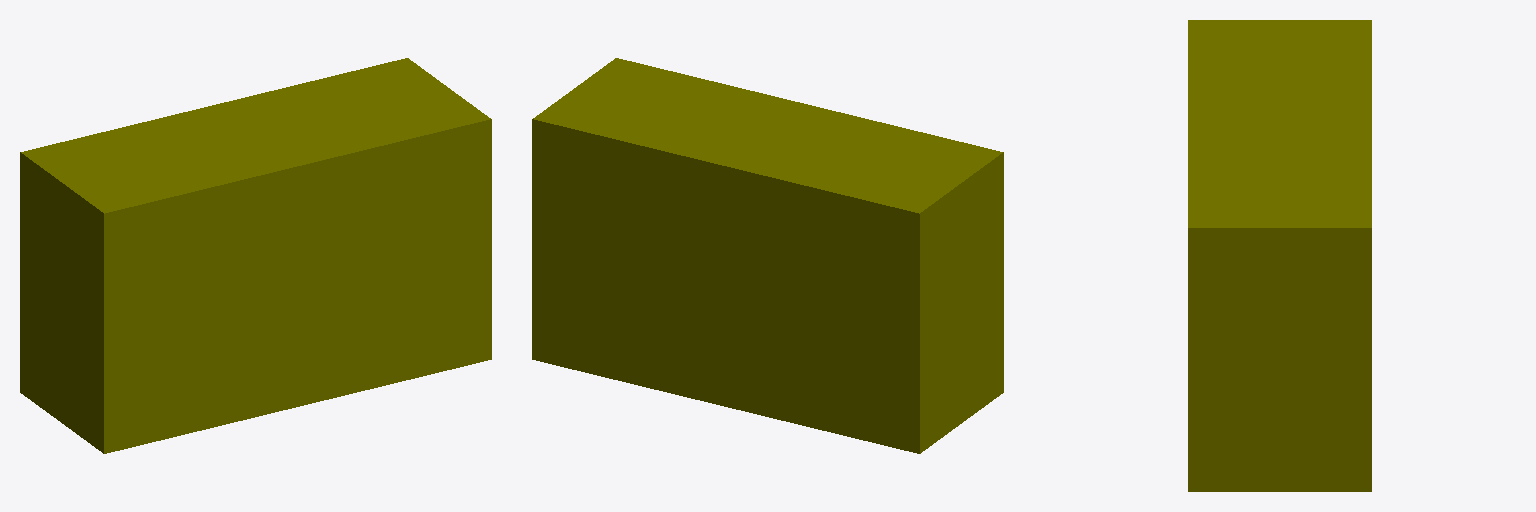
URDF robot description (box.urdf):
<?xml version="0.0" ?>
<robot name="box.urdf">
  <link name="baseLink">
    <contact>
      <lateral_friction value="0.5"/>
      <rolling_friction value="0.0"/>
      <contact_cfm value="0.0"/>
      <contact_erp value="1.0"/>
    </contact>
    <inertial>
      <origin rpy="0 0 0" xyz="0 0 0"/>
       <mass value=".01"/>
       <inertia ixx="1" ixy="0" ixz="0" iyy="1" iyz="0" izz="1"/>
    </inertial>
    <visual>
      <origin rpy="0 0 0" xyz="0 0 0"/>
      <geometry>
				<mesh filename="box.obj" scale="0.16 0.06 0.095"/>
      </geometry>
       <material name="white">
        <color rgba="0.5 0.5 0 1"/>
      </material>
    </visual>
    <collision>
      <origin rpy="0 0 0" xyz="0 0 0"/>
      <geometry>
	 	<box size="0.16 0.06 0.095"/>
      </geometry>
    </collision>
  </link>
</robot>

--- Render facts (derived) ---
3 views of the same robot in one strip: view 1: azimuth 30°, elevation 25°; view 2: azimuth 150°, elevation 25°; view 3: azimuth 270°, elevation 25° (orthographic).
Model box.urdf with 1 links and 0 joints (none), rooted at baseLink, posed every joint at zero.
Visible links, largest first — view 1: baseLink; view 2: baseLink; view 3: baseLink.
Link boxes in pixels (<box>): baseLink: <box>20,58,491,453</box>; baseLink: <box>532,58,1003,453</box>; baseLink: <box>1188,20,1371,491</box>.
Size in the robot's own frame: 0.16 by 0.06 by 0.095 metres.
Meshes: 1 distinct files referenced, 1 mesh visuals loaded (1 OBJ).